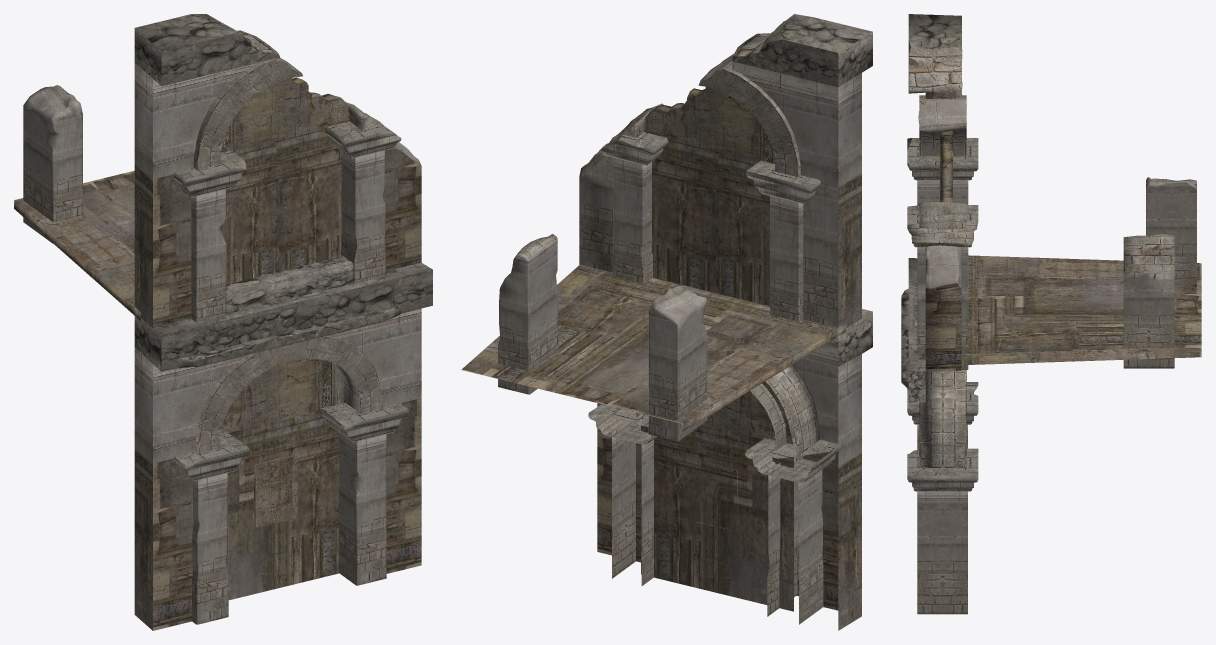
Rendered from Wall11.fbx.
3 renders of one model, left to right at view 1: azimuth 30°, elevation 25°; view 2: azimuth 150°, elevation 25°; view 3: azimuth 270°, elevation 25°, orthographic. The views are drawn at different scales.
Visible parts, largest first — view 1: LV_Campagna_Stadium_Wall_Out01_Crush04_SM_JJH; view 2: LV_Campagna_Stadium_Wall_Out01_Crush04_SM_JJH; view 3: LV_Campagna_Stadium_Wall_Out01_Crush04_SM_JJH.
Boxes of the visible parts, box(x1,y1,x2,y2) form: LV_Campagna_Stadium_Wall_Out01_Crush04_SM_JJH: box(14, 14, 432, 630); LV_Campagna_Stadium_Wall_Out01_Crush04_SM_JJH: box(461, 14, 872, 630); LV_Campagna_Stadium_Wall_Out01_Crush04_SM_JJH: box(901, 14, 1201, 614).
Size of the model in its own units: 3.27 by 6.75 by 3.64.
Materials: 3 (3 with a texture image).
